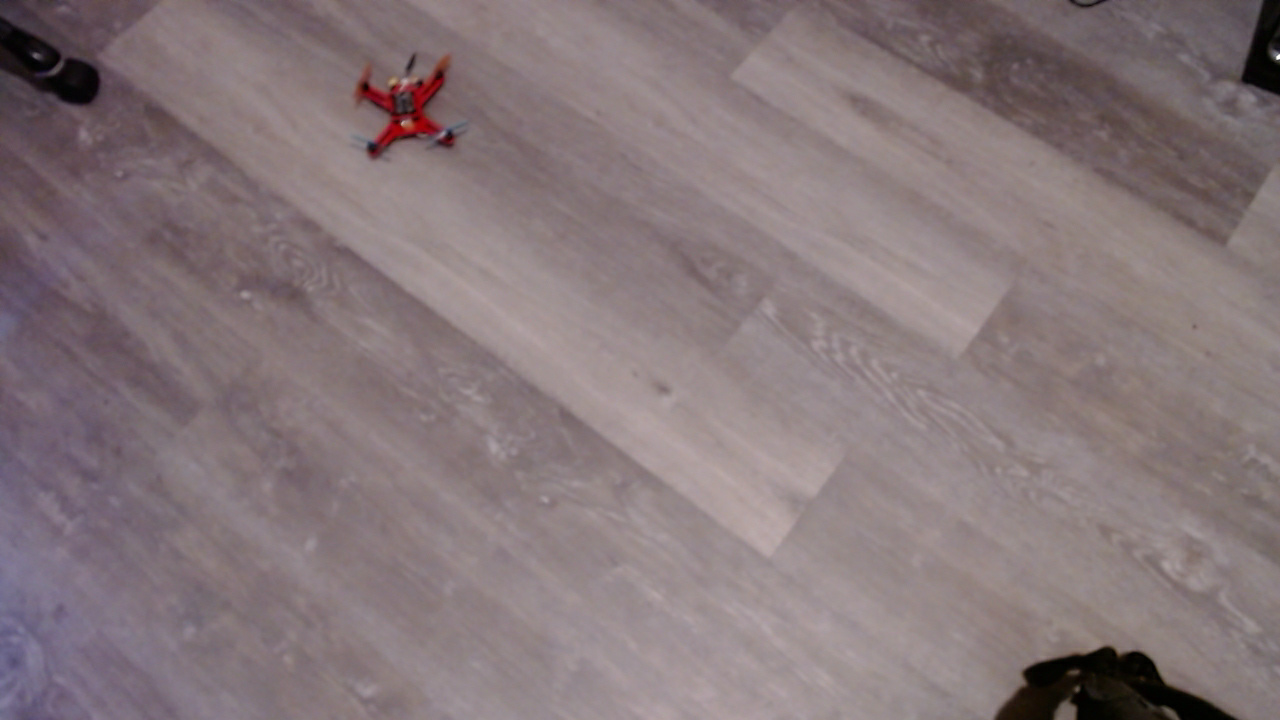crazyflie: (339, 58, 467, 167)
